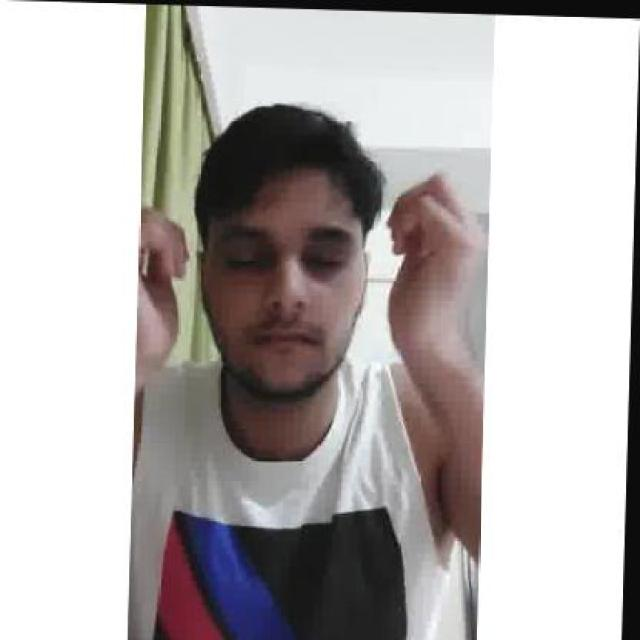inattentif: (191, 104, 377, 404)
